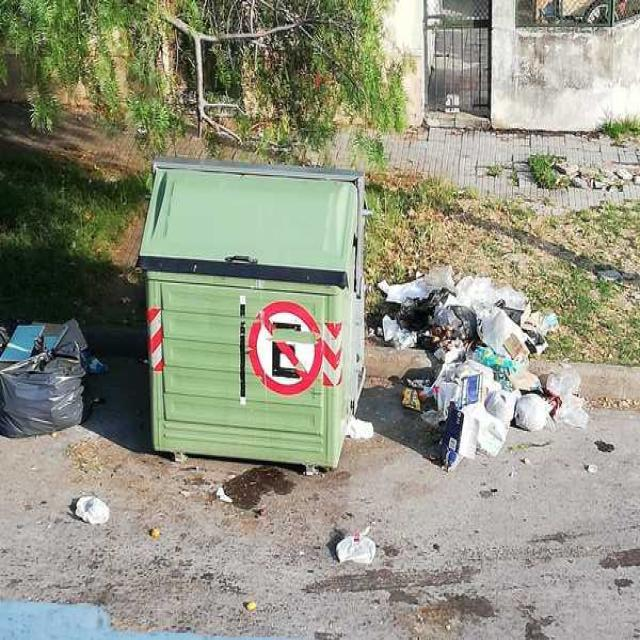garbage: (374, 250, 616, 510), (0, 263, 123, 471), (61, 480, 172, 548), (322, 524, 387, 584), (435, 72, 468, 136), (338, 402, 370, 453)
